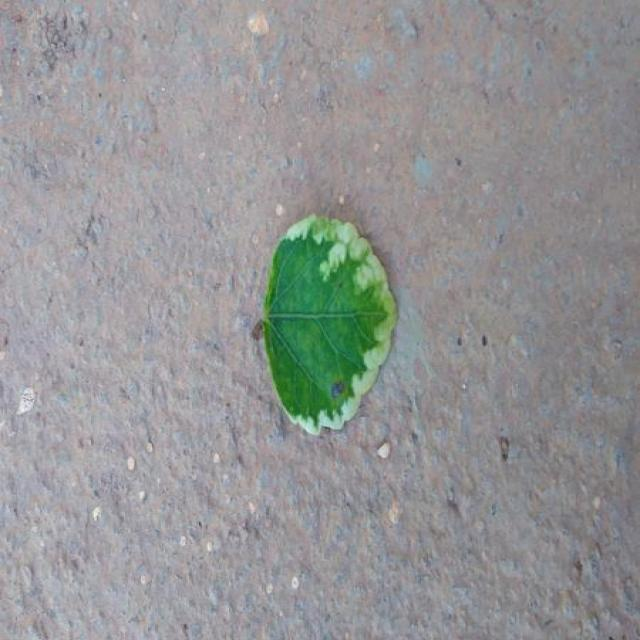Hibiscus: (263, 215, 397, 434)
